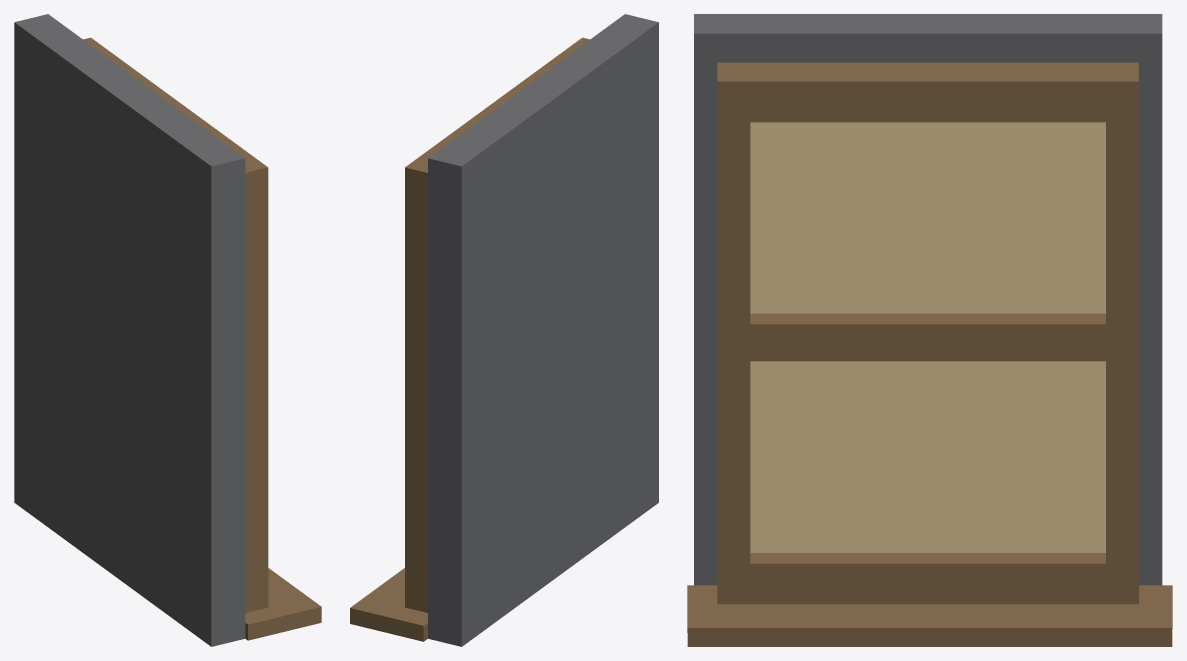
Rendered from O_Enviroment_FakeWindow_2.fbx.
3 views of the same model, side by side, from view 1: azimuth 30°, elevation 25°; view 2: azimuth 150°, elevation 25°; view 3: azimuth 270°, elevation 25° (orthographic). The views are drawn at different scales.
Parts seen in each view (by area): view 1: pCube31; view 2: pCube31; view 3: pCube31.
Boxes of the visible parts, x1,y1,x2,y2 form: pCube31: (14, 14, 321, 646); pCube31: (350, 14, 658, 646); pCube31: (687, 14, 1172, 646).
Size of the model in its own units: 0.6102 by 2.61 by 2.01.
